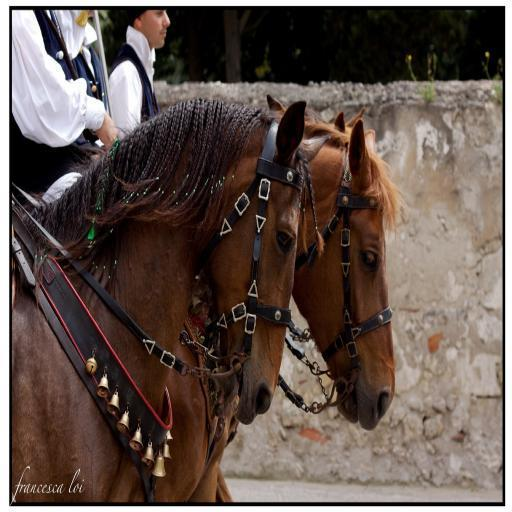horse: (11, 118, 411, 504), (10, 98, 330, 506)
